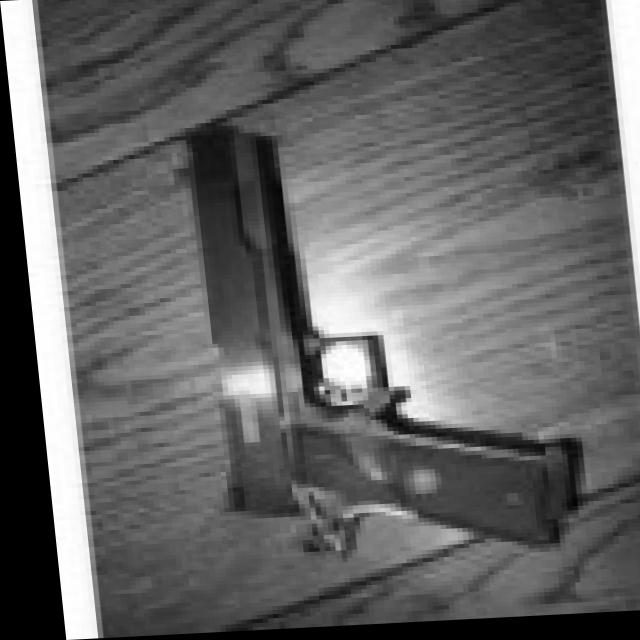handgun: (160, 106, 580, 566)
